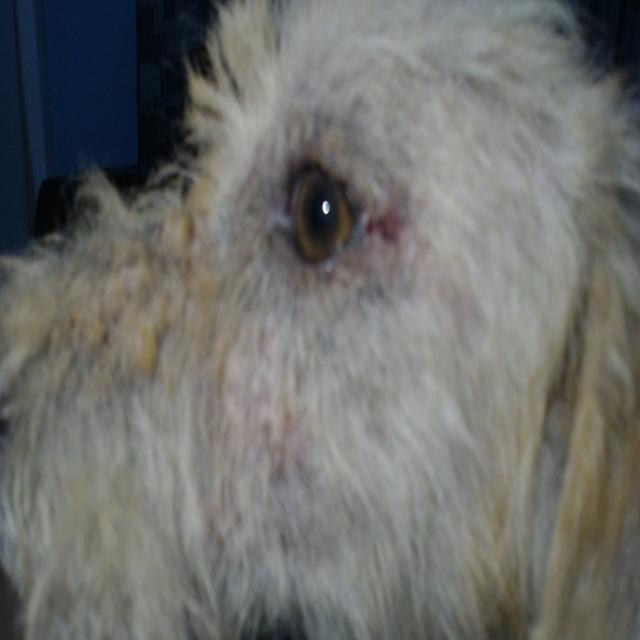demodicosis: (374, 188, 403, 265)
